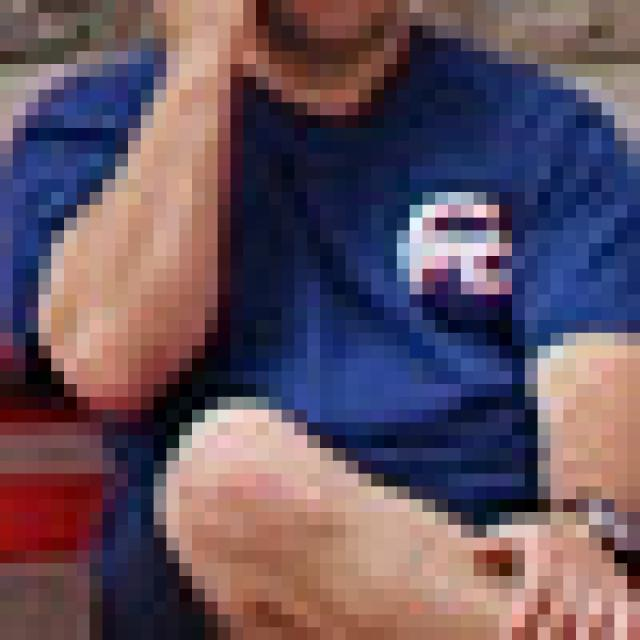no_fire: (27, 34, 625, 640)
